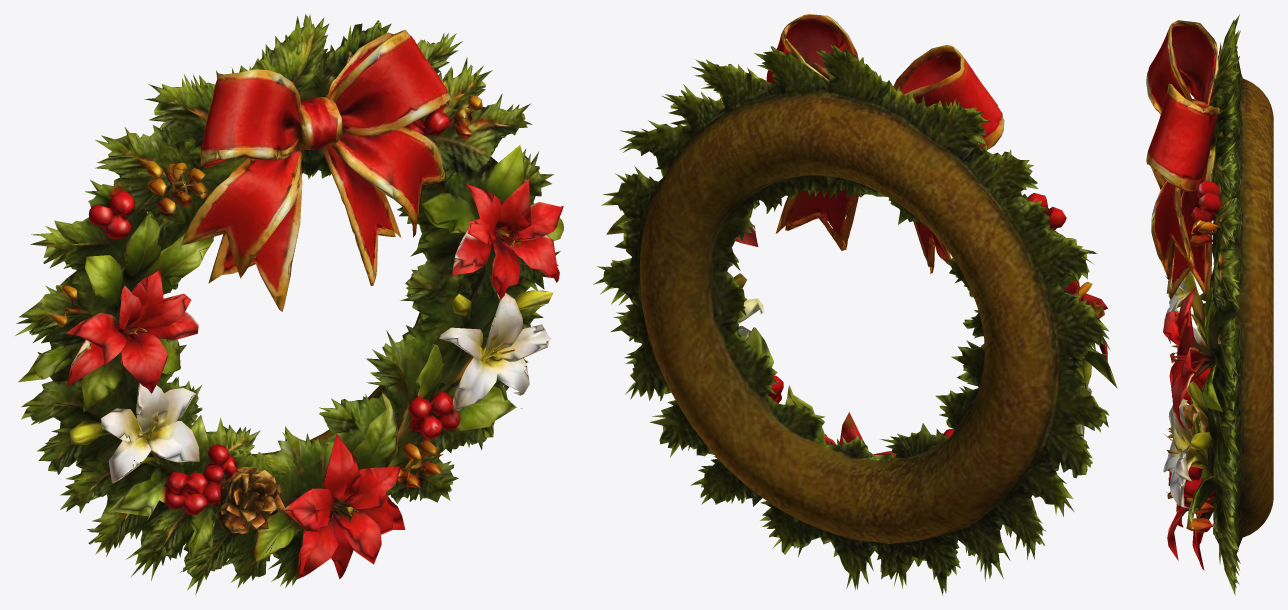
File: wreath.glb
3 renders of one model, left to right at view 1: azimuth 30°, elevation 25°; view 2: azimuth 150°, elevation 25°; view 3: azimuth 270°, elevation 25°, orthographic. The views are drawn at different scales.
Parts seen in each view (by area): view 1: tripo_node_8da68e8a-2d18-4bcc-bbdc-192dc8934750; view 2: tripo_node_8da68e8a-2d18-4bcc-bbdc-192dc8934750; view 3: tripo_node_8da68e8a-2d18-4bcc-bbdc-192dc8934750.
Boxes of the visible parts, left/top/right/bottom form: tripo_node_8da68e8a-2d18-4bcc-bbdc-192dc8934750: left=15, top=14, right=563, bottom=595; tripo_node_8da68e8a-2d18-4bcc-bbdc-192dc8934750: left=593, top=14, right=1117, bottom=595; tripo_node_8da68e8a-2d18-4bcc-bbdc-192dc8934750: left=1146, top=14, right=1273, bottom=595.
Bounding box in the file's own units: 0.9684 × 0.9666 × 0.2137.
Materials: 1 (1 with a texture image).
